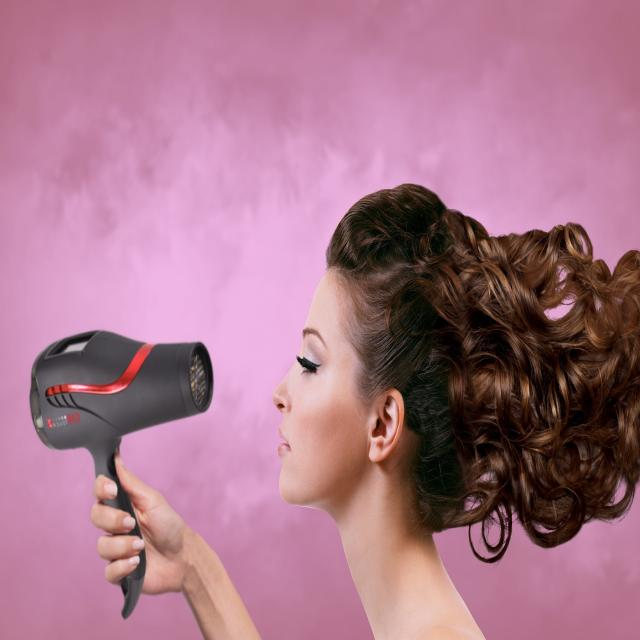dryer: (28, 326, 214, 623)
